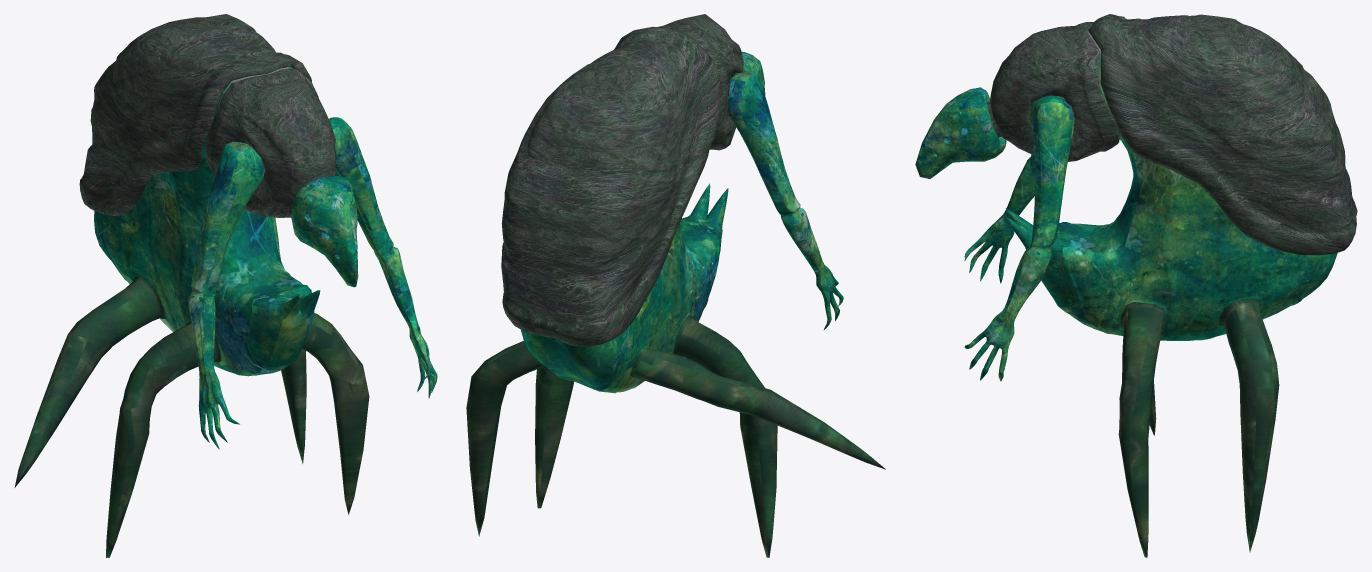
File: Andar.0016.obj
The picture shows the model from 3 angles, left to right: view 1: azimuth 30°, elevation 25°; view 2: azimuth 150°, elevation 25°; view 3: azimuth 270°, elevation 25°; orthographic projection. The views are drawn at different scales.
Visible parts, largest first — view 1: pCube14; view 2: pCube14; view 3: pCube14.
Boxes of the visible parts, left/top/right/bottom form: pCube14: left=14, top=14, right=437, bottom=557; pCube14: left=466, top=14, right=885, bottom=557; pCube14: left=915, top=14, right=1357, bottom=557.
Bounding box in the file's own units: 2.95 × 3.93 × 3.26.
5 materials, 4 textured.
